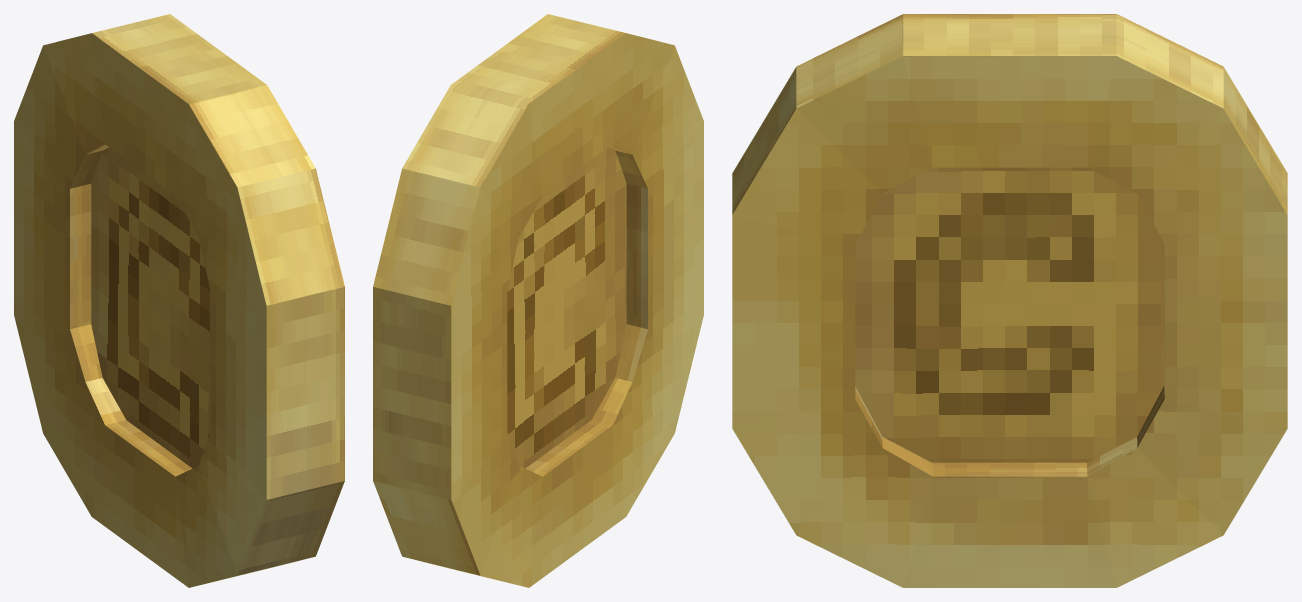
File: Coin1.fbx
The picture shows the model from 3 angles, left to right: view 1: azimuth 30°, elevation 25°; view 2: azimuth 150°, elevation 25°; view 3: azimuth 270°, elevation 25°; orthographic projection. The views are drawn at different scales.
Visible parts, largest first — view 1: Cube; view 2: Cube; view 3: Cube.
Part boxes in pixels (left/top/right/bottom): Cube: left=14, top=14, right=344, bottom=587; Cube: left=373, top=14, right=703, bottom=587; Cube: left=732, top=14, right=1287, bottom=587.
Size of the model in its own units: 46.6 by 275 by 260.
Materials: 1 (1 with a texture image).
